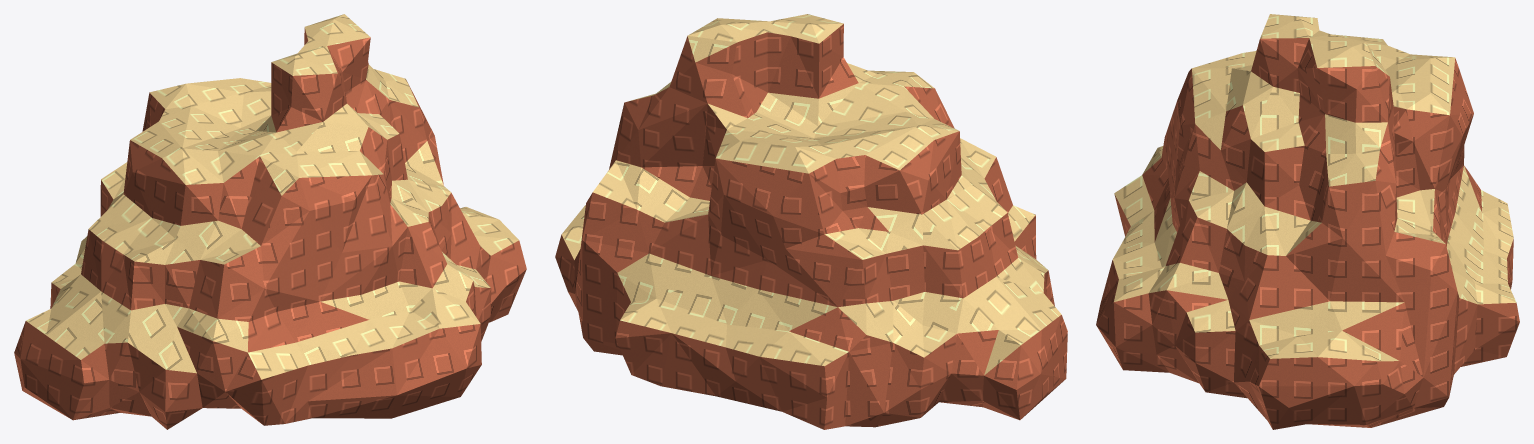
Rendered from DesertLedge.glb.
The picture shows the model from 3 angles, left to right: view 1: azimuth 30°, elevation 25°; view 2: azimuth 150°, elevation 25°; view 3: azimuth 270°, elevation 25°; orthographic projection. The views are drawn at different scales.
Parts seen in each view (by area): view 1: DesertLedge_Rock, DesertLedge_Top; view 2: DesertLedge_Rock, DesertLedge_Top; view 3: DesertLedge_Rock, DesertLedge_Top.
Boxes of the visible parts, box(x1,y1,x2,y2) form: DesertLedge_Rock: box(14, 28, 526, 429); DesertLedge_Top: box(26, 14, 518, 379); DesertLedge_Rock: box(555, 24, 1067, 429); DesertLedge_Top: box(561, 14, 1061, 375); DesertLedge_Rock: box(1096, 38, 1519, 429); DesertLedge_Top: box(1112, 14, 1516, 361).
Bounding box in the file's own units: 16.53 × 10.81 × 12.44.
2 materials, 2 textured.
